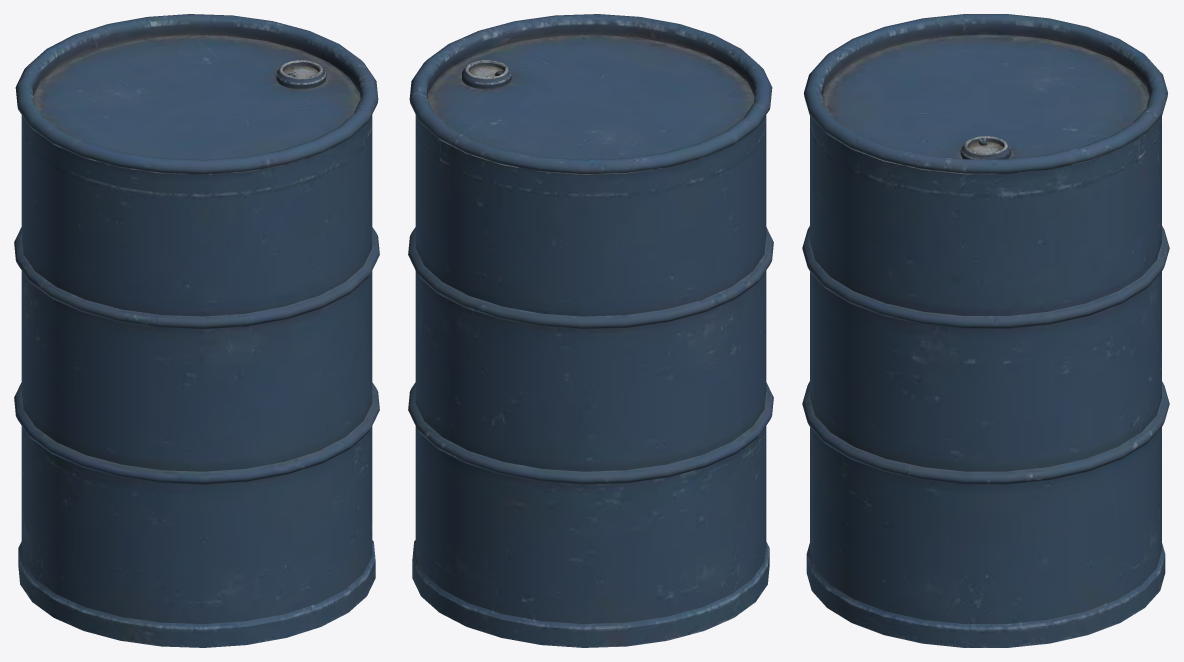
Rendered from barrel_03.glb.
3 views of the same model, side by side, from view 1: azimuth 30°, elevation 25°; view 2: azimuth 150°, elevation 25°; view 3: azimuth 270°, elevation 25° (orthographic).
Visible parts, largest first — view 1: barrel_03; view 2: barrel_03; view 3: barrel_03.
Part boxes in pixels (x1,y1,x2,y2): barrel_03: (14, 14, 379, 647); barrel_03: (408, 14, 773, 647); barrel_03: (802, 14, 1169, 647).
Bounding box in the file's own units: 0.634 × 0.9305 × 0.6386.
Materials: 1 (1 with a texture image).
